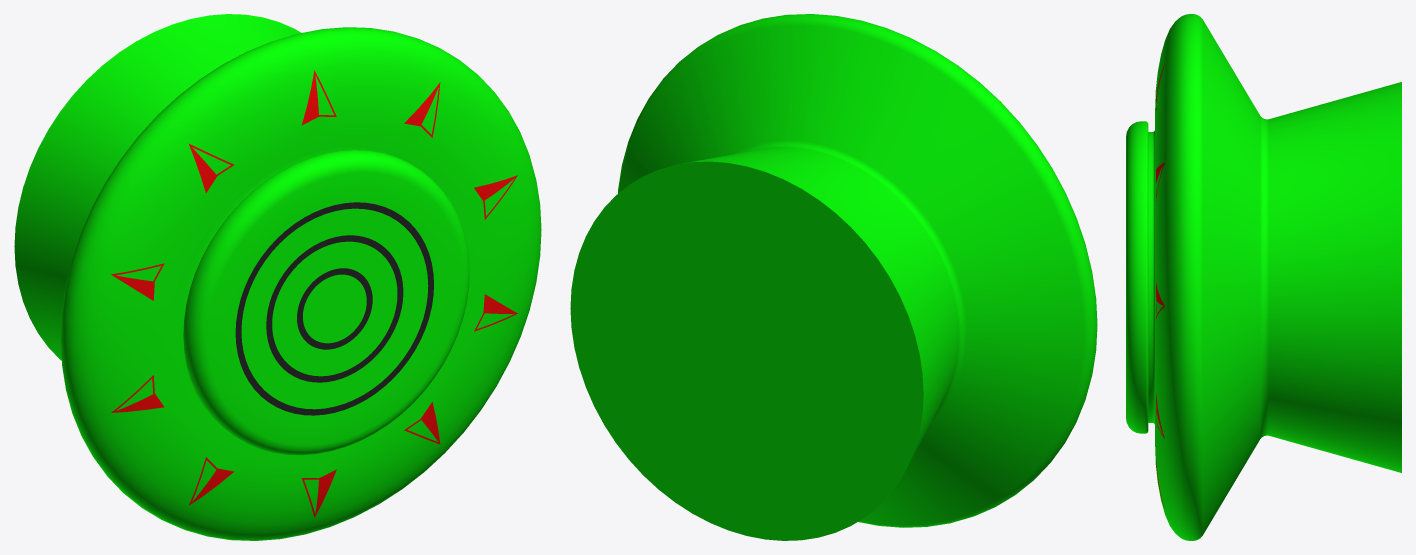
File: bumper_green.glb
The picture shows the model from 3 angles, left to right: view 1: azimuth 30°, elevation 25°; view 2: azimuth 150°, elevation 25°; view 3: azimuth 270°, elevation 25°; orthographic projection. The views are drawn at different scales.
Visible parts, largest first — view 1: BumperGreen; view 2: BumperGreen; view 3: BumperGreen.
Boxes of the visible parts, box(x1,y1,x2,y2) form: BumperGreen: box(14, 14, 541, 540); BumperGreen: box(570, 14, 1097, 540); BumperGreen: box(1126, 14, 1401, 540).
Size of the model in its own units: 0.9946 by 0.9946 by 0.5208.
